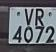0: (23, 25, 35, 44)
2: (45, 24, 56, 45)
4: (12, 25, 24, 44)
7: (33, 24, 46, 44)
R: (34, 7, 45, 27)
V: (23, 8, 35, 27)
